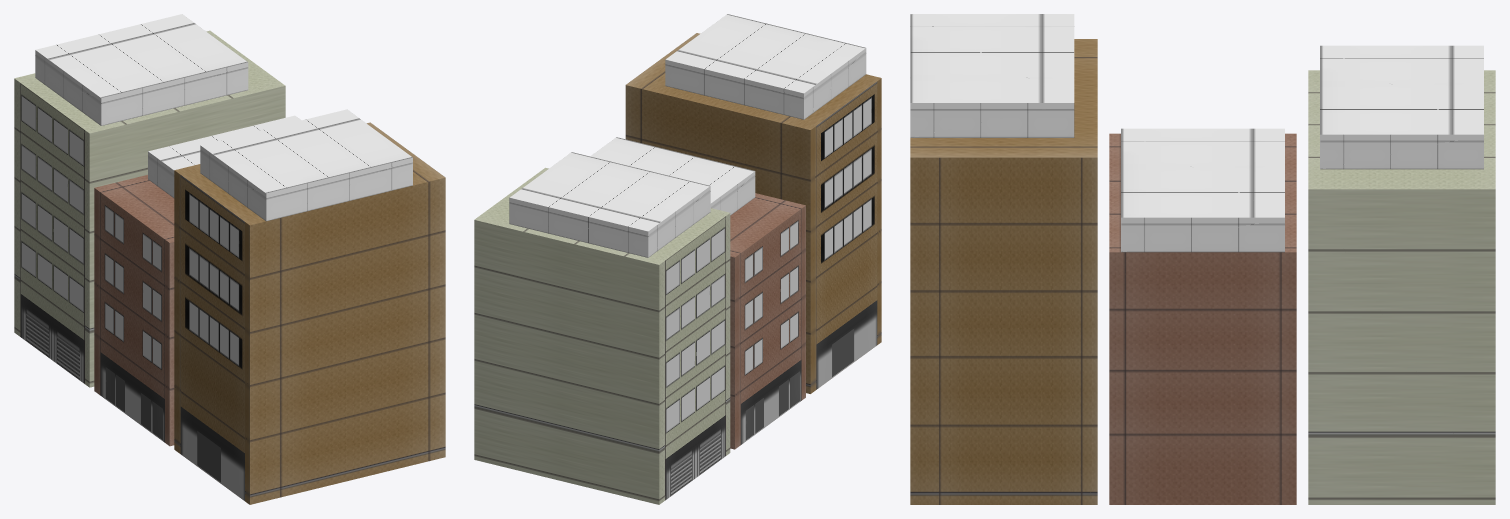
The model's file is buil_03.fbx.
The picture shows the model from 3 angles, left to right: view 1: azimuth 30°, elevation 25°; view 2: azimuth 150°, elevation 25°; view 3: azimuth 270°, elevation 25°; orthographic projection. The views are drawn at different scales.
Visible parts, largest first — view 1: polySurface20, polySurface21; view 2: polySurface20, polySurface21; view 3: polySurface20, polySurface21.
Boxes of the visible parts, x1,y1,x2,y2 form: polySurface20: [14, 30, 445, 504]; polySurface21: [35, 14, 412, 221]; polySurface20: [474, 33, 881, 504]; polySurface21: [509, 14, 866, 257]; polySurface20: [910, 39, 1495, 504]; polySurface21: [910, 14, 1483, 252].
Size of the model in its own units: 12 by 18 by 25.
